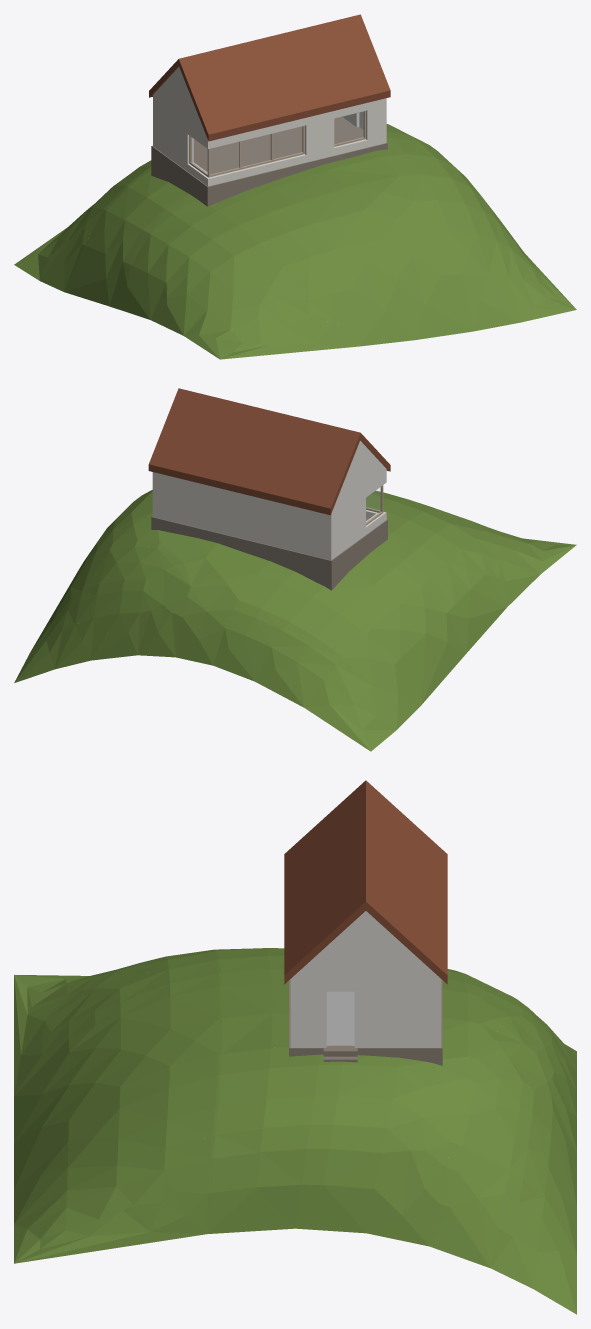
3 renders of one model, top to bottom at view 1: azimuth 30°, elevation 25°; view 2: azimuth 150°, elevation 25°; view 3: azimuth 270°, elevation 25°, orthographic. The views are drawn at different scales.
Visible parts, largest first — view 1: 3bqf5ZY_nDpfb1hfmOkxFk, 2KoBar2pfAWBou8q$ldGHy, 2W4bl$KK1Brv_UEOkAThqU, 3g46_woBL6sugXeY5_WP6n, 1hwEPyGUD1vwPpm508N9dQ; view 2: 3bqf5ZY_nDpfb1hfmOkxFk, 3lPsczHcDCwepFiJhZqz9q, 3xUPAVO39FGgNkCUQqf4JV, 2W4bl$KK1Brv_UEOkAThqU, 1hwEPyGUD1vwPpm508N9dQ; view 3: 3bqf5ZY_nDpfb1hfmOkxFk, 3hw7qrktPAl8j6w3qKhwKm, 2KoBar2pfAWBou8q$ldGHy, 3lPsczHcDCwepFiJhZqz9q, 2W4bl$KK1Brv_UEOkAThqU, 0Tif_$wI1FwAwq$OJt24I8.
Part boxes in pixels (x1=…): 3bqf5ZY_nDpfb1hfmOkxFk: x1=14, y1=124, x2=576, y2=359; 2KoBar2pfAWBou8q$ldGHy: x1=178, y1=14, x2=390, y2=141; 2W4bl$KK1Brv_UEOkAThqU: x1=151, y1=117, x2=387, y2=206; 3g46_woBL6sugXeY5_WP6n: x1=204, y1=98, x2=386, y2=186; 1hwEPyGUD1vwPpm508N9dQ: x1=155, y1=67, x2=207, y2=184; 3bqf5ZY_nDpfb1hfmOkxFk: x1=14, y1=490, x2=576, y2=751; 3lPsczHcDCwepFiJhZqz9q: x1=148, y1=388, x2=360, y2=515; 3xUPAVO39FGgNkCUQqf4JV: x1=152, y1=472, x2=334, y2=560; 2W4bl$KK1Brv_UEOkAThqU: x1=151, y1=516, x2=387, y2=590; 1hwEPyGUD1vwPpm508N9dQ: x1=335, y1=440, x2=383, y2=557; 3bqf5ZY_nDpfb1hfmOkxFk: x1=14, y1=948, x2=576, y2=1314; 3hw7qrktPAl8j6w3qKhwKm: x1=295, y1=911, x2=436, y2=1047; 2KoBar2pfAWBou8q$ldGHy: x1=284, y1=780, x2=365, y2=984; 3lPsczHcDCwepFiJhZqz9q: x1=366, y1=780, x2=447, y2=984; 2W4bl$KK1Brv_UEOkAThqU: x1=289, y1=979, x2=442, y2=1065; 0Tif_$wI1FwAwq$OJt24I8: x1=326, y1=991, x2=354, y2=1045.
Bounding box in the file's own units: 19.99 × 13.91 × 19.99.
